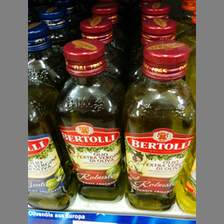oil: (124, 39, 197, 209), (56, 39, 125, 201)
